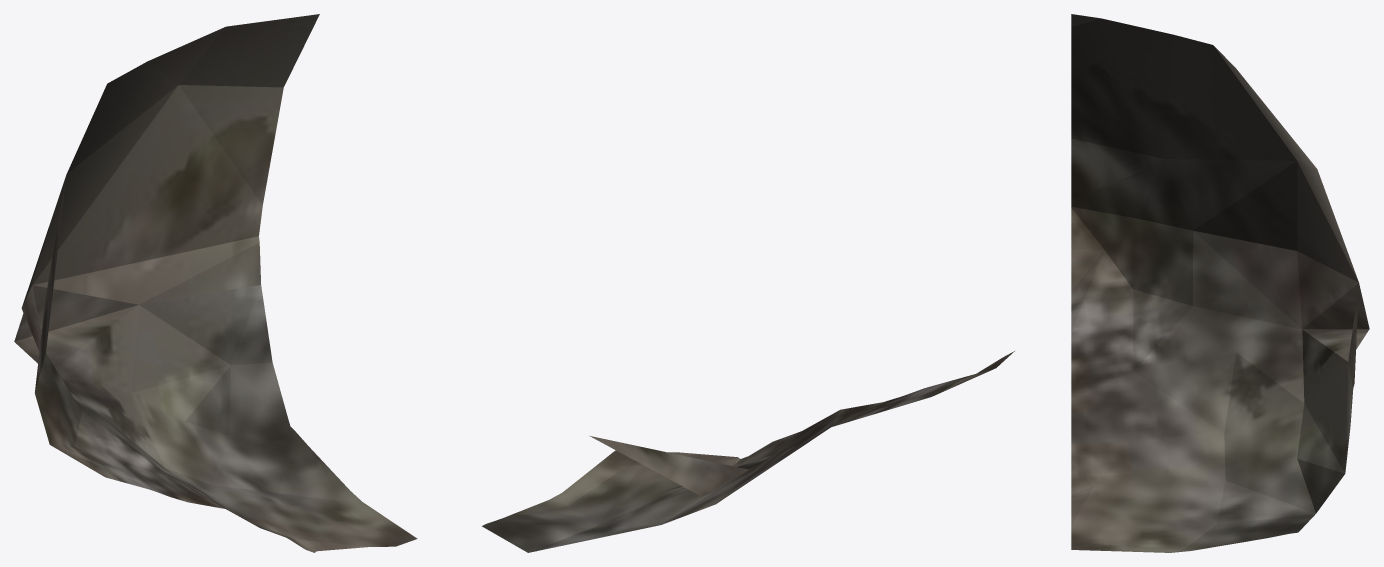
The picture shows the model from 3 angles, left to right: view 1: azimuth 30°, elevation 25°; view 2: azimuth 150°, elevation 25°; view 3: azimuth 270°, elevation 25°; orthographic projection. The views are drawn at different scales.
Bounding box in the file's own units: 0.9717 × 1.14 × 0.7563.
Materials: 1 (1 with a texture image).
